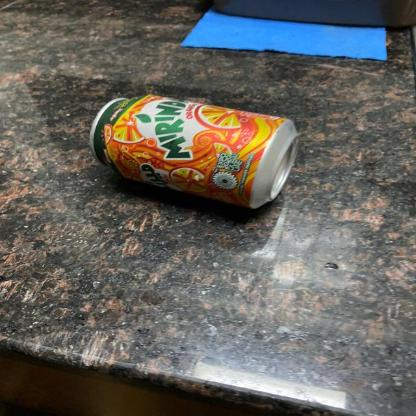Can: (84, 91, 302, 213)
